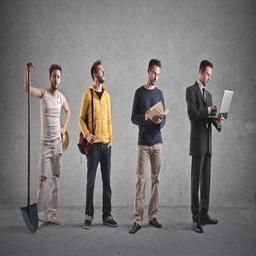person: (24, 62, 71, 227), (185, 60, 225, 233), (78, 61, 118, 228), (131, 59, 166, 234)
